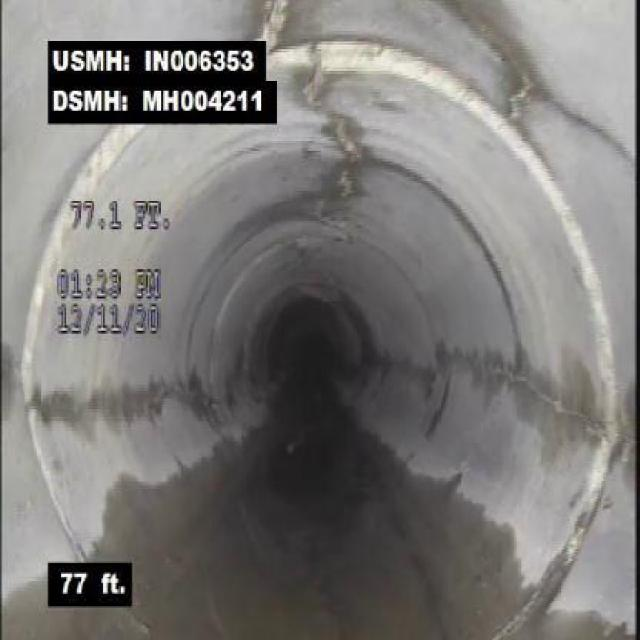Buckling: (255, 2, 292, 52)
Crack: (526, 361, 611, 454), (481, 32, 554, 137), (135, 378, 194, 418)
Joint offset: (514, 143, 608, 312), (317, 32, 466, 72), (59, 129, 132, 188)
